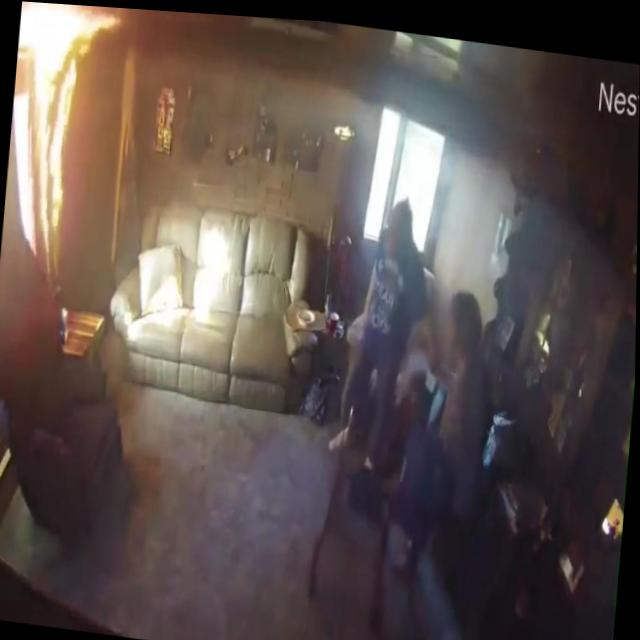fire: (4, 0, 122, 265)
